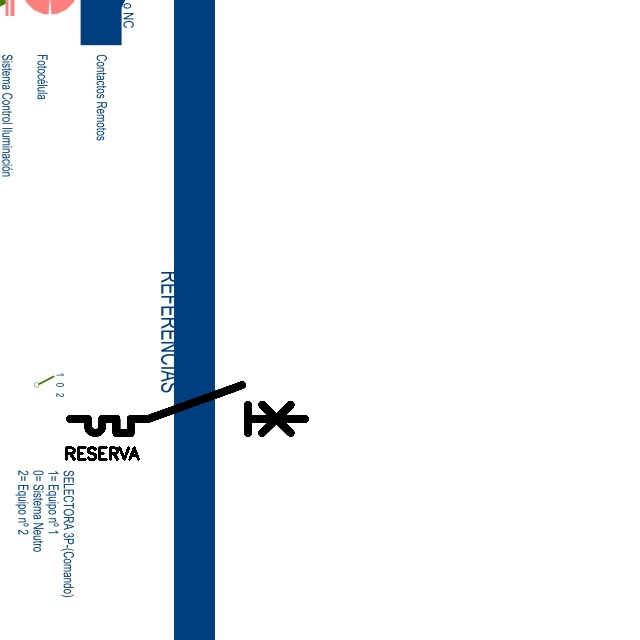interruptor_termomagnetico: (64, 379, 311, 439)
